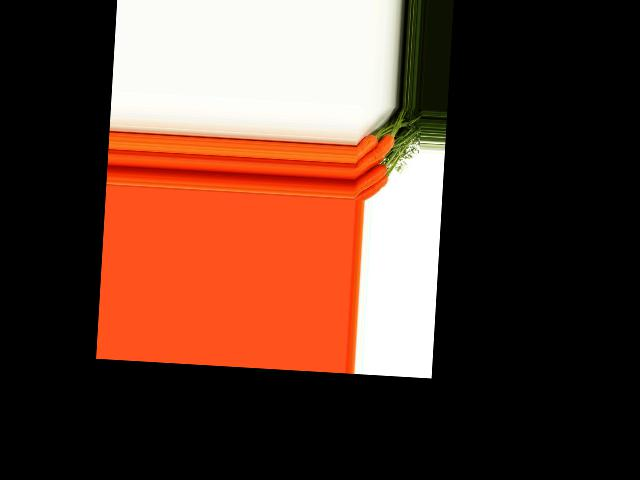carrot: (355, 133, 379, 163)
